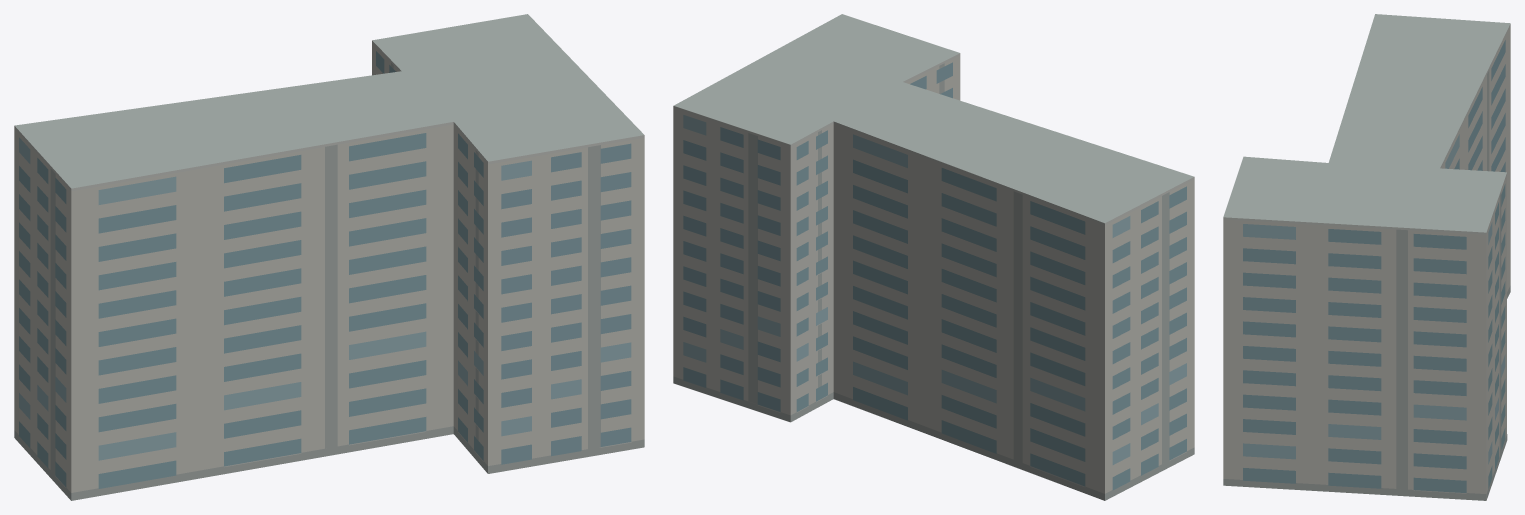
Rendered from residential-ff3ae5e7-1069-46d1-a44b-6e25db5181ad.glb.
3 renders of one model, left to right at view 1: azimuth 30°, elevation 25°; view 2: azimuth 150°, elevation 25°; view 3: azimuth 270°, elevation 25°, orthographic. The views are drawn at different scales.
Visible parts, largest first — view 1: residential-ff3ae5e7-1069-46d1-a44b-6e25db5181ad.tmp; view 2: residential-ff3ae5e7-1069-46d1-a44b-6e25db5181ad.tmp; view 3: residential-ff3ae5e7-1069-46d1-a44b-6e25db5181ad.tmp.
Part boxes in pixels (x1,y1,x2,y2): residential-ff3ae5e7-1069-46d1-a44b-6e25db5181ad.tmp: (14, 14, 644, 500); residential-ff3ae5e7-1069-46d1-a44b-6e25db5181ad.tmp: (673, 14, 1194, 500); residential-ff3ae5e7-1069-46d1-a44b-6e25db5181ad.tmp: (1223, 14, 1510, 500).
Bounding box in the file's own units: 52.43 × 30 × 29.14.
